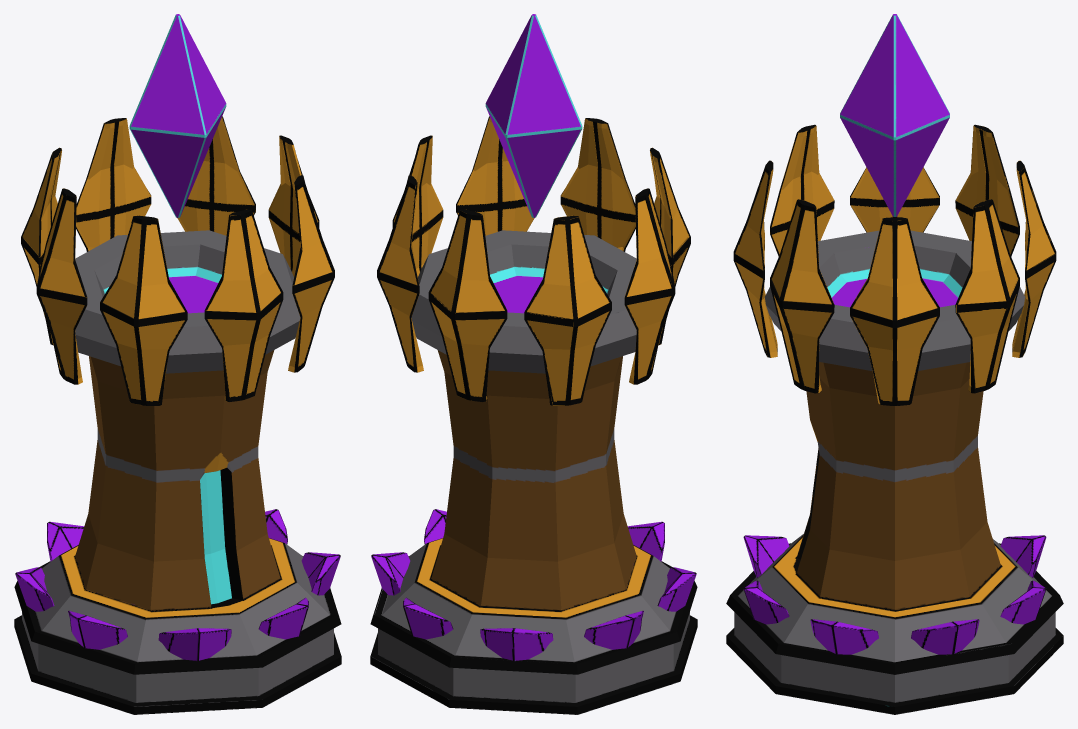
The model's file is Mage Tower Lvl 3.fbx.
3 views of the same model, side by side, from view 1: azimuth 30°, elevation 25°; view 2: azimuth 150°, elevation 25°; view 3: azimuth 270°, elevation 25° (orthographic).
Visible parts, largest first — view 1: Torre de Magos, Placas.001, Cristal; view 2: Torre de Magos, Placas.001, Cristal; view 3: Torre de Magos, Placas.001, Cristal.
Part boxes in pixels (x1,y1,x2,y2): Torre de Magos: (14,230,341,714); Placas.001: (21,116,334,405); Cristal: (129,14,226,217); Torre de Magos: (370,230,697,714); Placas.001: (377,116,690,405); Cristal: (485,14,582,217); Torre de Magos: (726,230,1063,714); Placas.001: (733,124,1056,405); Cristal: (840,14,949,216).
Bounding box in the file's own units: 210 × 431 × 210.
3 materials, 3 textured.
